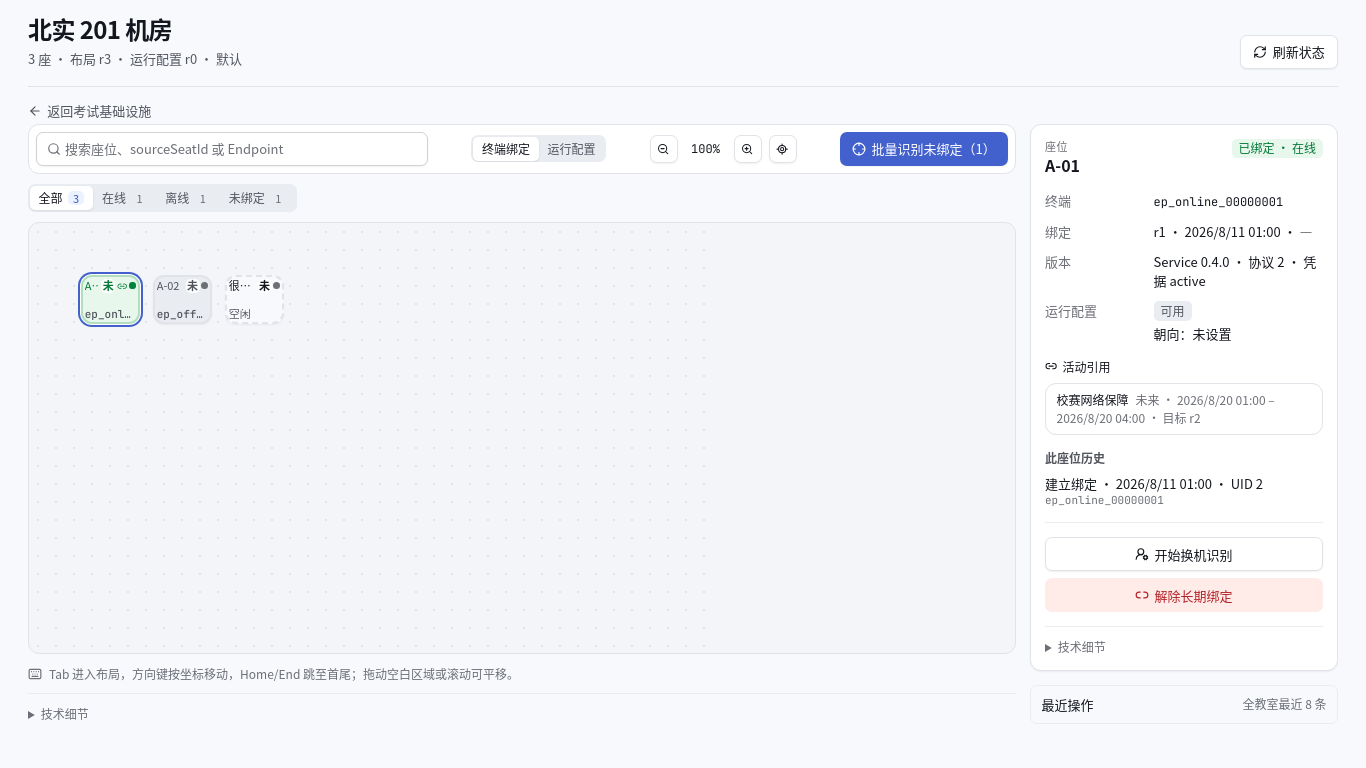
Test: exam classroom endpoint binding workspace › selects only seats intersecting a blank-area drag rectangle
Click the tab "运行配置" at (572, 149), box [539,137,604,161]
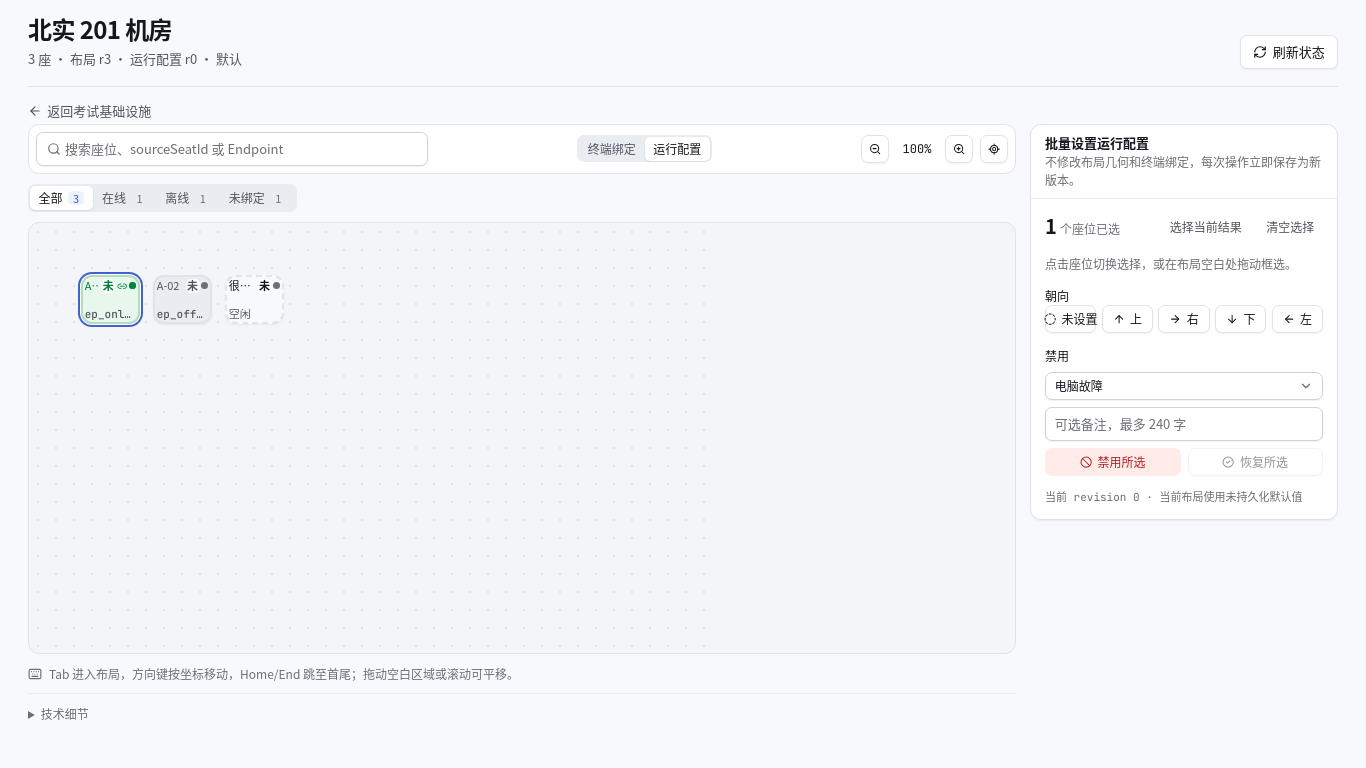
Press the mouse on the element named "教室实体座位布局，拖动空白区域可框选座位" at (522, 438), box [28,222,1016,654]
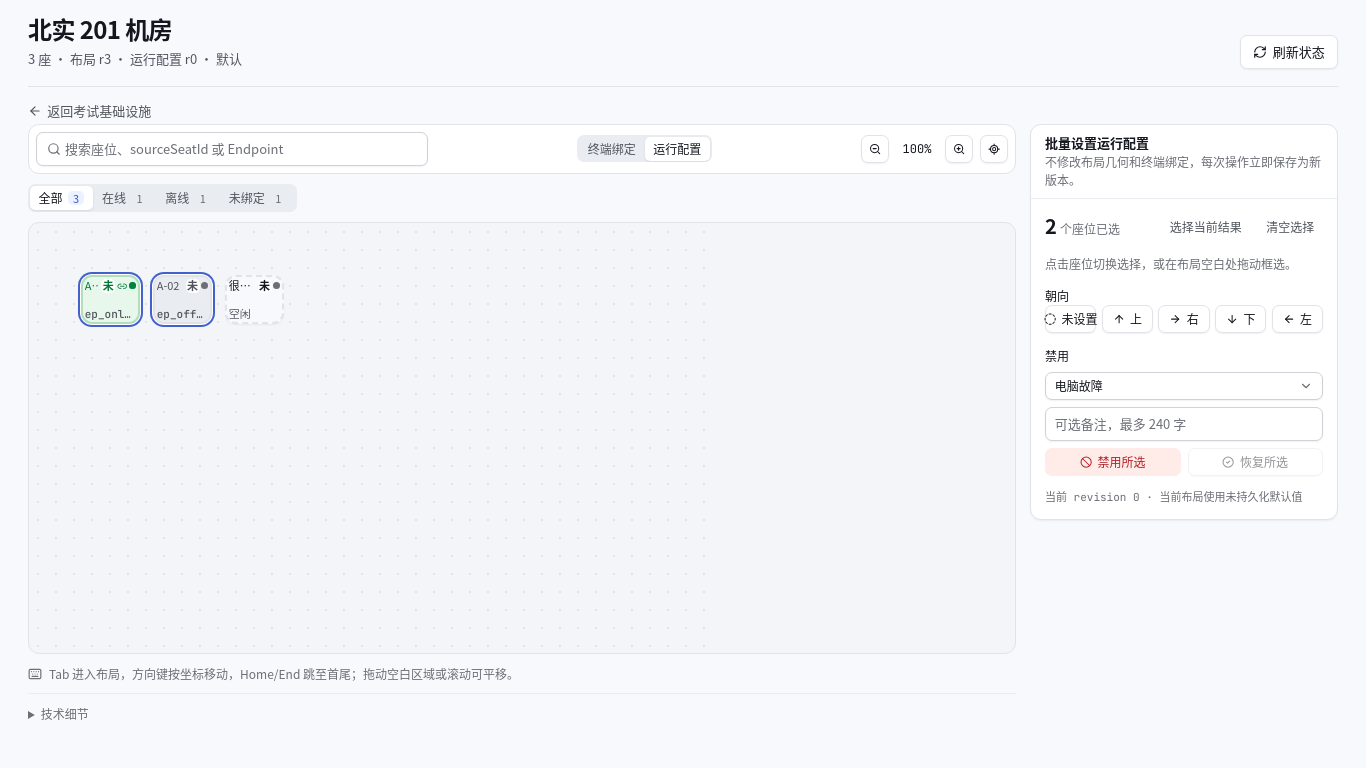
Expected: the button "A-01 未 ep_online_00000001" is shown, [81,275,140,324]
Expected: the button "A-02 未 ep_offline_0000002" is shown, [153,275,212,324]
